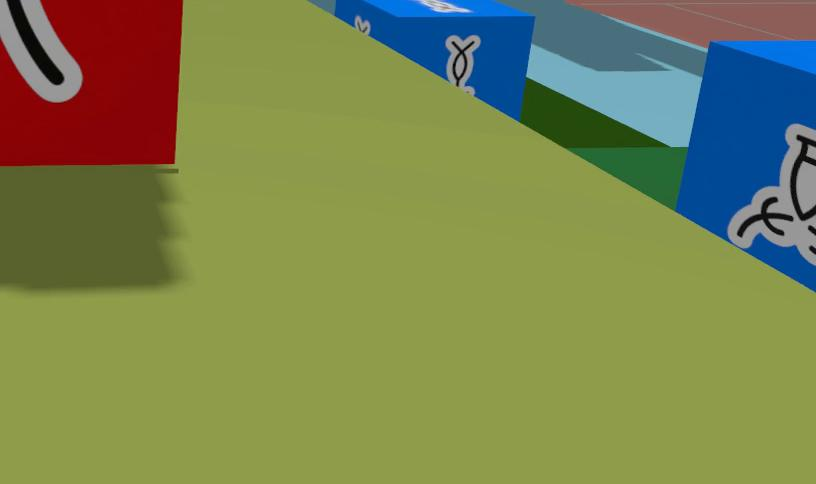KFS_FAKE: (0, 0, 182, 165), (0, 0, 82, 102)
KFS_REAL: (677, 41, 815, 289), (334, 0, 534, 119), (726, 123, 815, 265), (446, 35, 480, 93)
